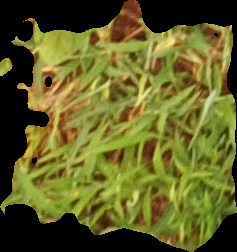grass: (1, 1, 236, 251)
